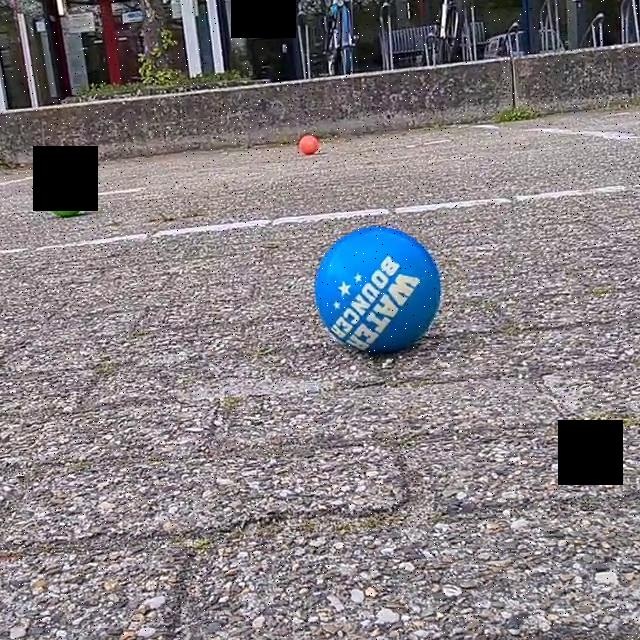ball: (42, 178, 88, 221), (296, 128, 320, 157)
